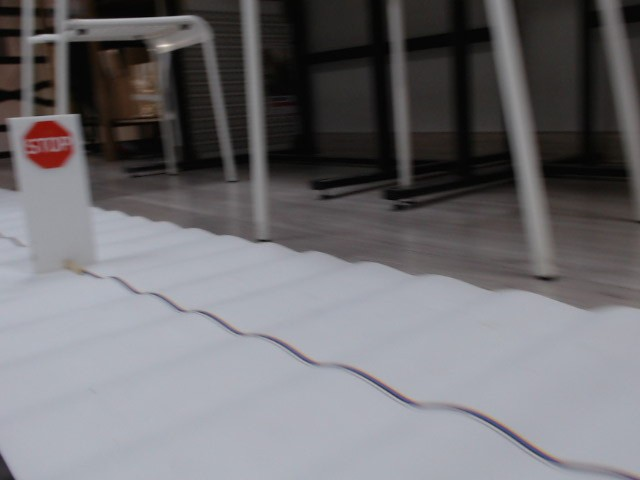Stop: (24, 121, 75, 169)
